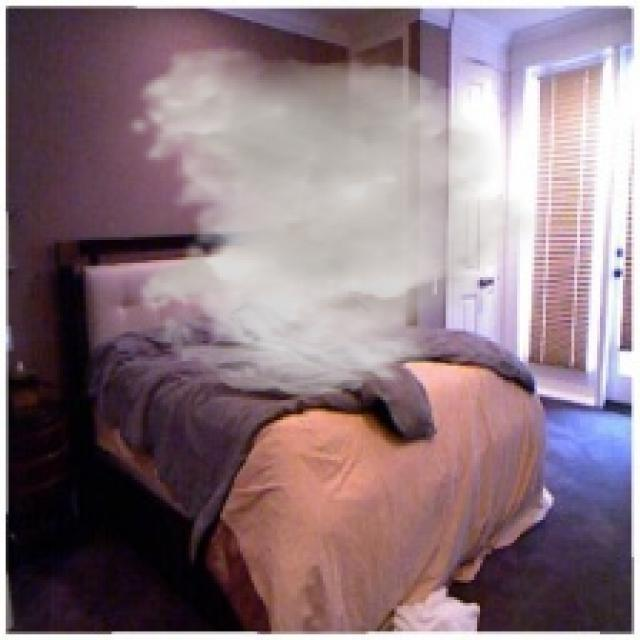Smoke: (126, 46, 552, 397)
